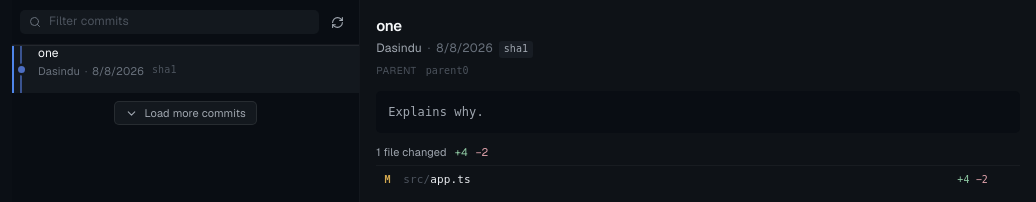
commit history and inspector › pages by commit count against the resolved revision and drops duplicates
Expected: the button "one Dasindu · 8/8/2026 sha1" is shown, top-left (12, 45), bottom-right (359, 93)
Click the button "Load more commits": (186, 113) top-left (114, 101), bottom-right (257, 125)
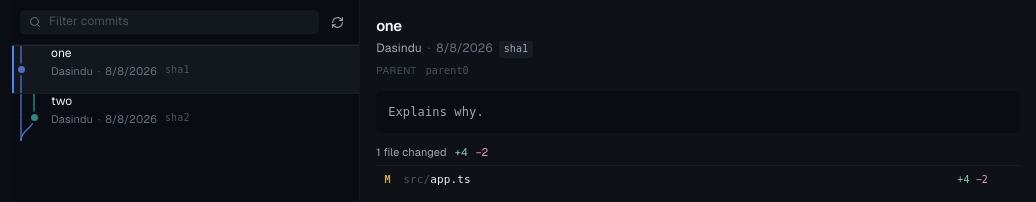
Now the button "two Dasindu · 8/8/2026 sha2" is shown, box top-left (12, 93), bottom-right (359, 141)
Now the button "Load more commits" is gone
